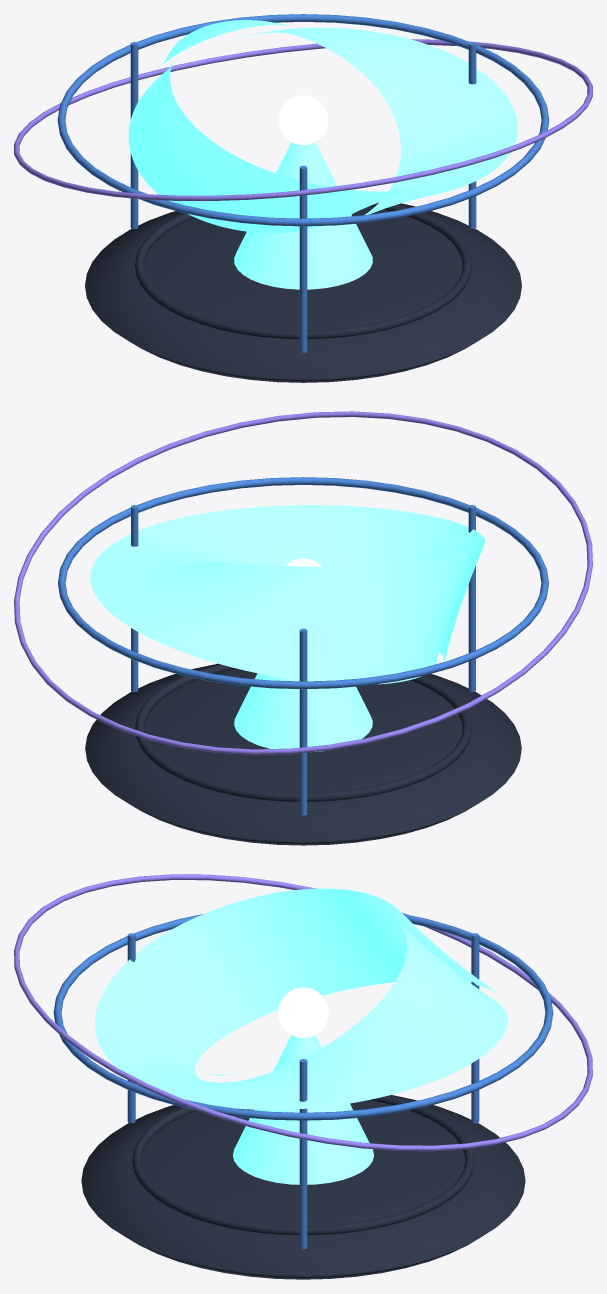
Rendered from nucleo-da-friday.glb.
3 renders of one model, top to bottom at view 1: azimuth 30°, elevation 25°; view 2: azimuth 150°, elevation 25°; view 3: azimuth 270°, elevation 25°, orthographic.
Parts seen in each view (by area): view 1: Emissor, Fita de Möbius, Anel interno, Feixe, Anel externo, Hastes, Núcleo; view 2: Fita de Möbius, Emissor, Anel interno, Anel externo, Feixe, Hastes; view 3: Fita de Möbius, Emissor, Feixe, Anel externo, Anel interno, Hastes, Núcleo.
Part boxes in pixels (x1=…): Emissor: x1=85, y1=202, x2=521, y2=382; Fita de Möbius: x1=128, y1=20, x2=517, y2=233; Anel interno: x1=57, y1=14, x2=549, y2=226; Feixe: x1=234, y1=142, x2=372, y2=289; Anel externo: x1=14, y1=39, x2=592, y2=200; Hastes: x1=130, y1=42, x2=476, y2=352; Núcleo: x1=278, y1=95, x2=328, y2=144; Fita de Möbius: x1=90, y1=505, x2=484, y2=684; Emissor: x1=85, y1=663, x2=521, y2=845; Anel interno: x1=58, y1=477, x2=548, y2=689; Anel externo: x1=14, y1=411, x2=592, y2=754; Feixe: x1=234, y1=673, x2=372, y2=751; Hastes: x1=131, y1=505, x2=475, y2=815; Fita de Möbius: x1=95, y1=888, x2=507, y2=1109; Emissor: x1=81, y1=1095, x2=525, y2=1279; Feixe: x1=233, y1=1035, x2=373, y2=1184; Anel externo: x1=14, y1=874, x2=592, y2=1151; Anel interno: x1=53, y1=914, x2=553, y2=1120; Hastes: x1=127, y1=933, x2=479, y2=1249; Núcleo: x1=278, y1=987, x2=328, y2=1037.
Size of the model in its own units: 3.73 by 1.74 by 3.65.
